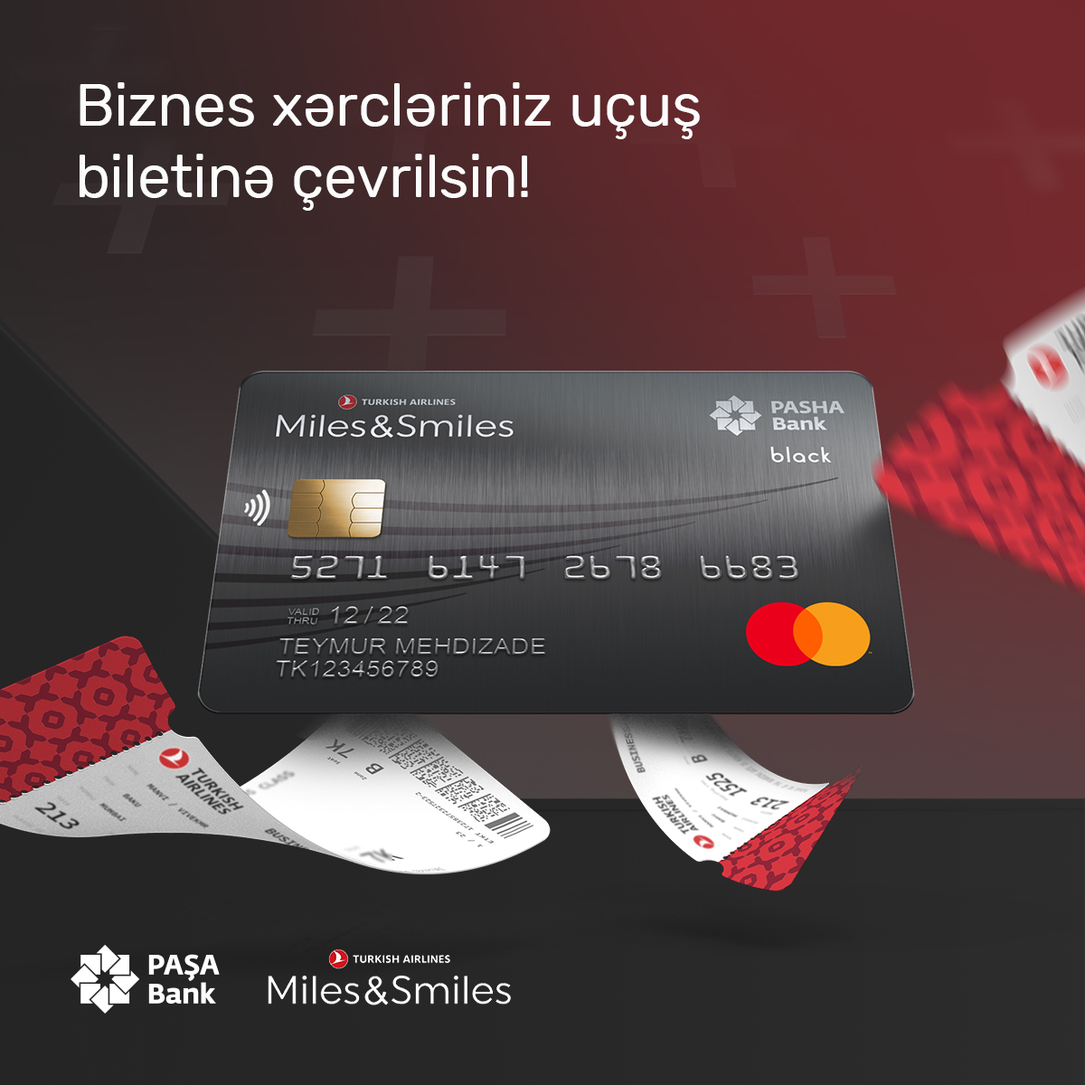Pasha Bank: (67, 943, 142, 1016), (706, 393, 764, 437)
